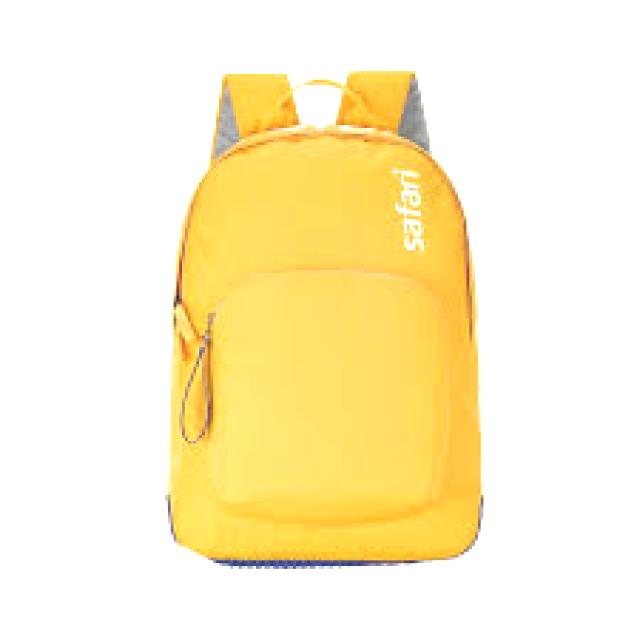backpack: (167, 69, 485, 567)
